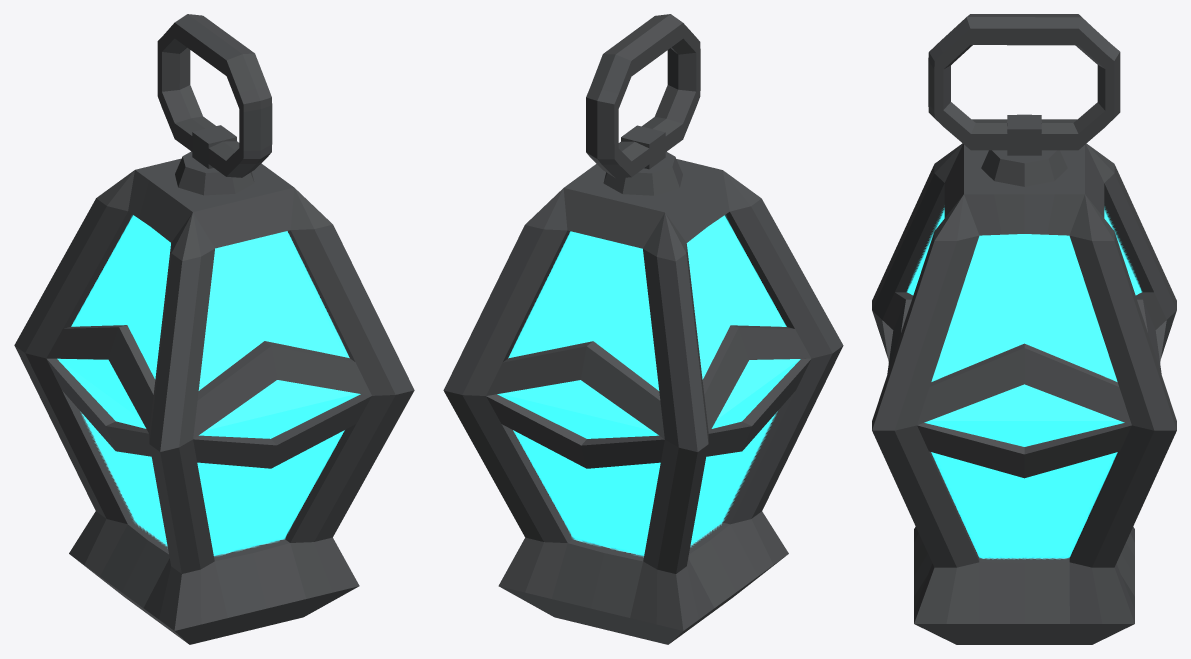
Rendered from Lampe.glb.
3 renders of one model, left to right at view 1: azimuth 30°, elevation 25°; view 2: azimuth 150°, elevation 25°; view 3: azimuth 270°, elevation 25°, orthographic. The views are drawn at different scales.
Parts seen in each view (by area): view 1: Cube.002; view 2: Cube.002; view 3: Cube.002.
Part boxes in pixels (box(x1,y1,x2,y2)): Cube.002: box(14, 14, 414, 644); Cube.002: box(443, 14, 843, 644); Cube.002: box(872, 14, 1176, 644).
Bounding box in the file's own units: 0.212 × 0.4565 × 0.2105.
Materials: 1 (1 with a texture image).
